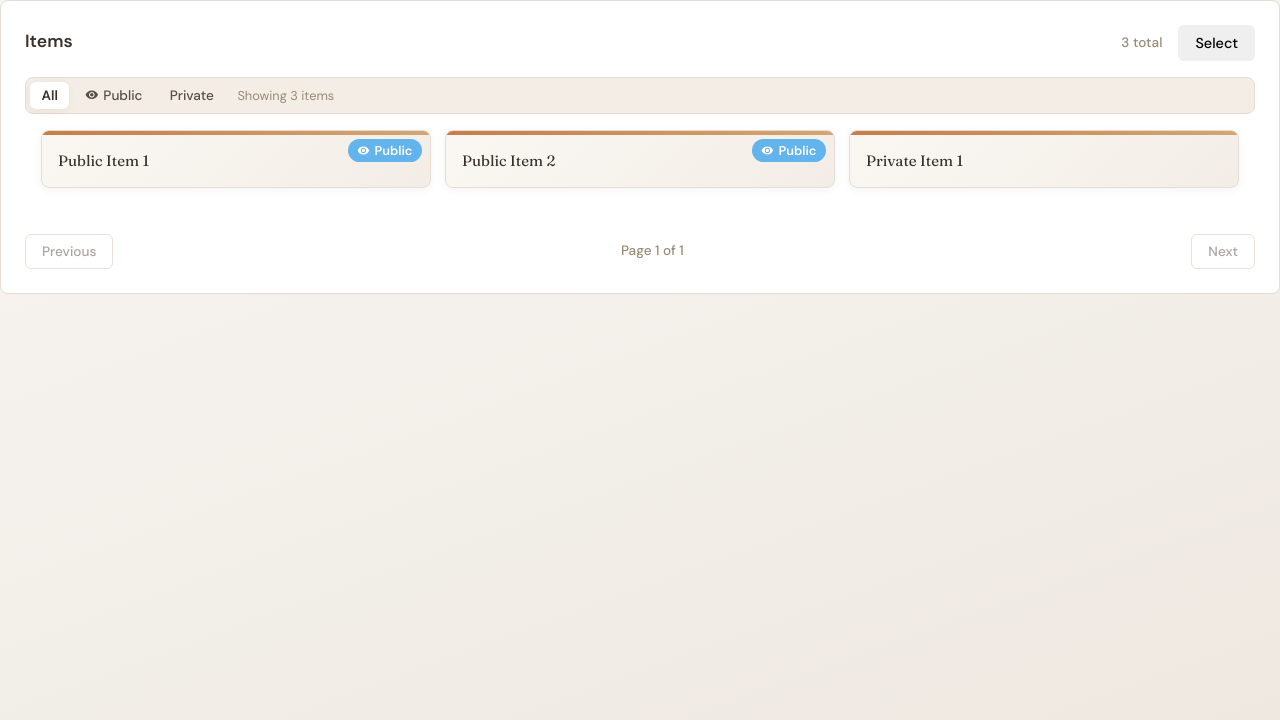
ItemList › visibility filter › should filter to private items only when Private is selected
Click the button "Private" at (192, 95), box [158, 82, 225, 108]
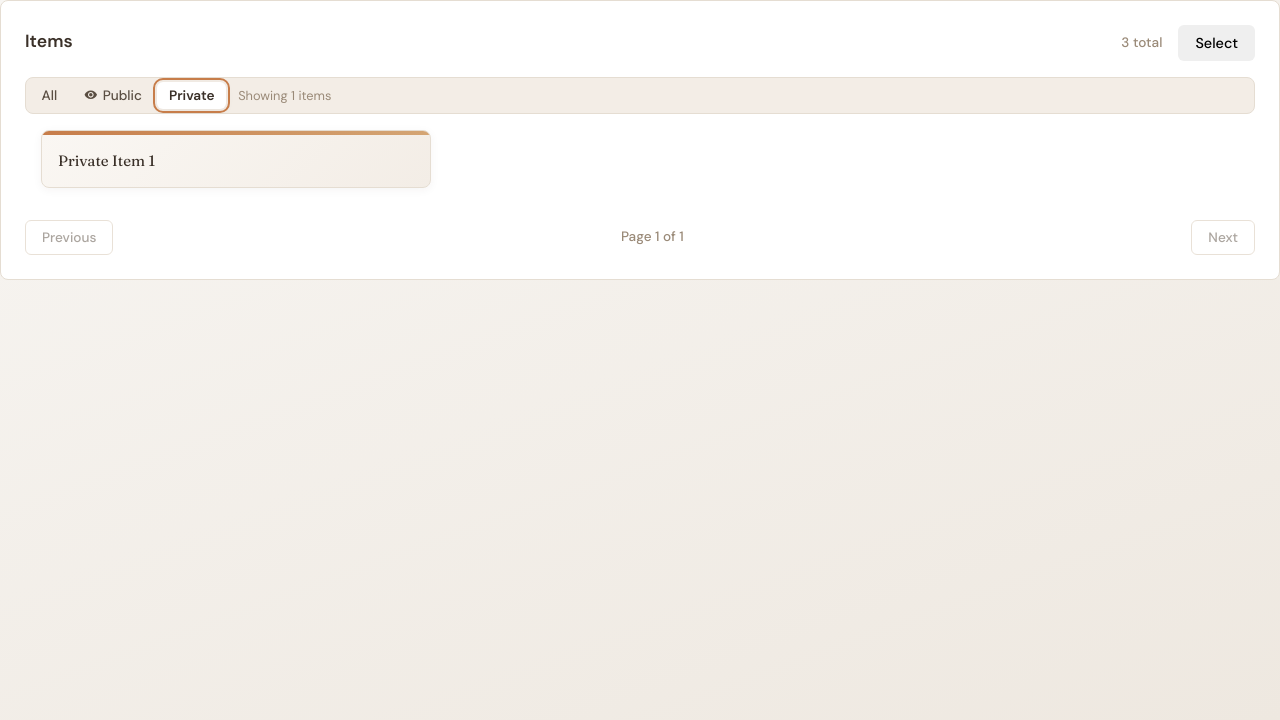
Expected: the button "Private Item 1" is shown, [58, 150, 155, 170]
Now the button "Public Item 1" is gone
Now the button "Public Item 2" is gone
